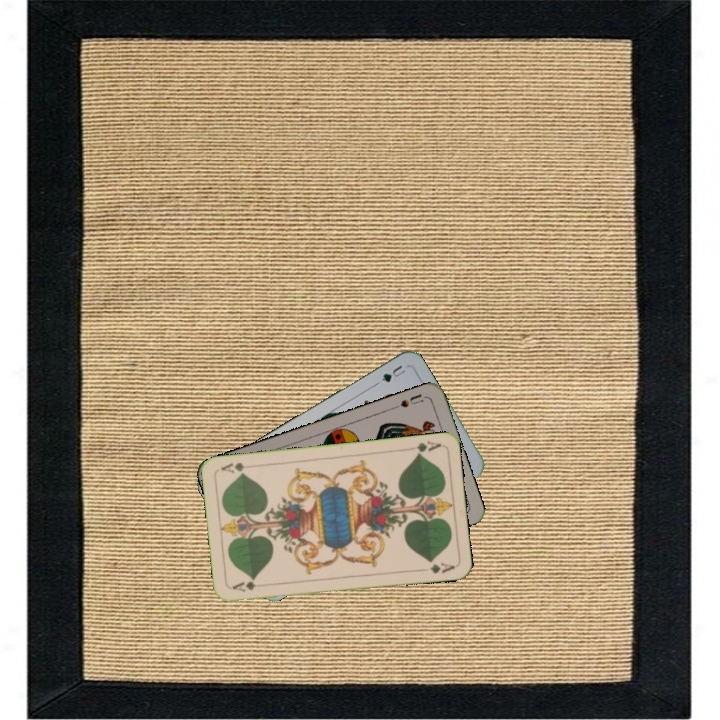GA: (411, 437, 444, 458), (228, 577, 268, 594)
GU: (377, 361, 408, 385)
SU: (389, 390, 429, 412)
